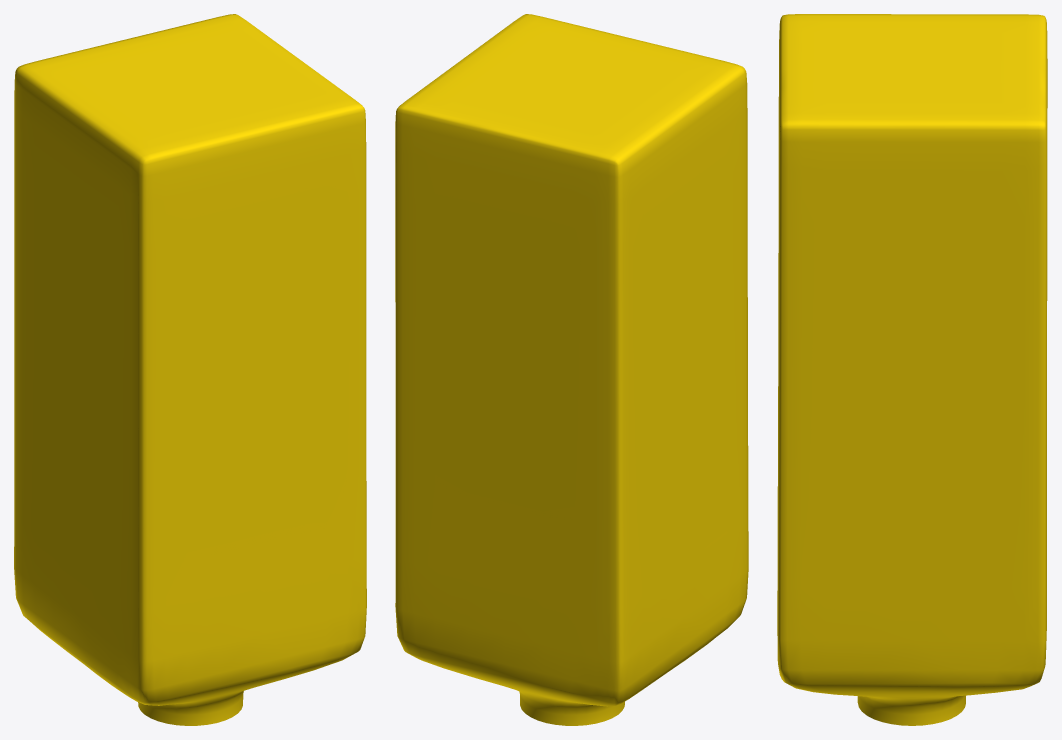
File: bottle_yellow.obj
3 views of the same model, side by side, from view 1: azimuth 30°, elevation 25°; view 2: azimuth 150°, elevation 25°; view 3: azimuth 270°, elevation 25° (orthographic). The views are drawn at different scales.
Visible parts, largest first — view 1: 13225_square_alcohol_bottle_v2; view 2: 13225_square_alcohol_bottle_v2; view 3: 13225_square_alcohol_bottle_v2.
Boxes of the visible parts, x1,y1,x2,y2 form: 13225_square_alcohol_bottle_v2: (14,14,366,725); 13225_square_alcohol_bottle_v2: (395,14,748,725); 13225_square_alcohol_bottle_v2: (777,14,1047,725).
Size of the model in its own units: 0.063 by 0.1642 by 0.0632.
Materials: 1 (1 with a texture image).
